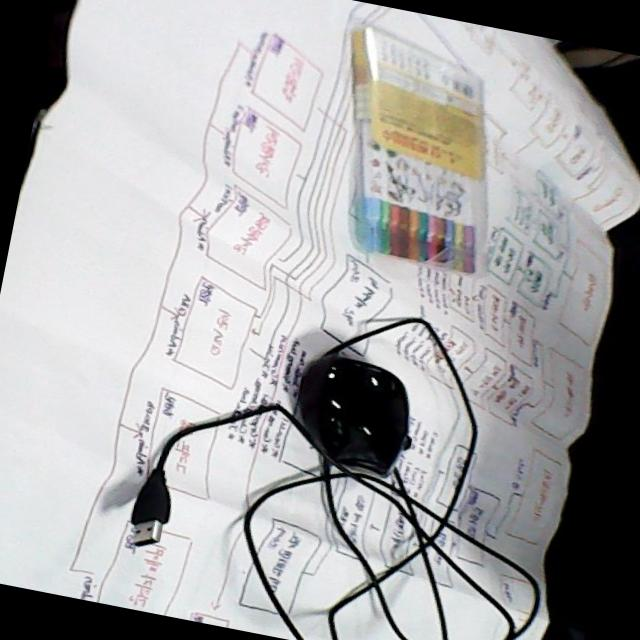mouse: (278, 344, 434, 490)
signpen: (343, 15, 497, 281)
